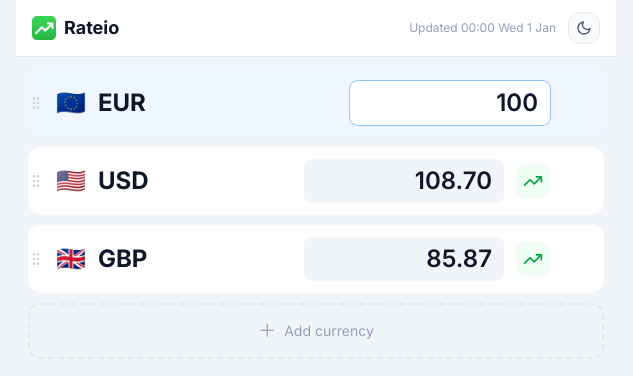
Test: Home page focus-switch conversion › converts activeValue when focusing a different row
Focus the field named "USD amount" at [404, 181], box [304,159,504,203]
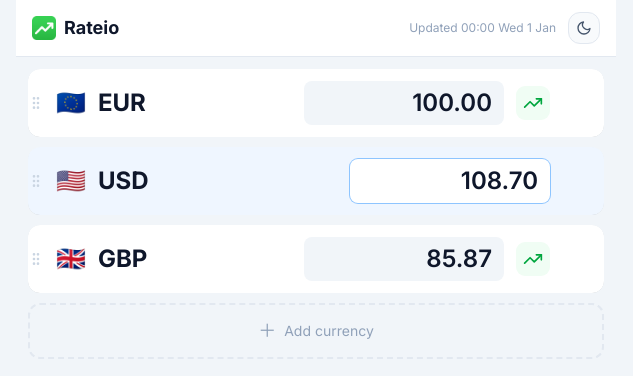
Expected: the field named "USD amount" holds "108.70", [350,159,550,203]
Result: the field named "EUR amount" holds "100.00" at [304,81,504,125]
